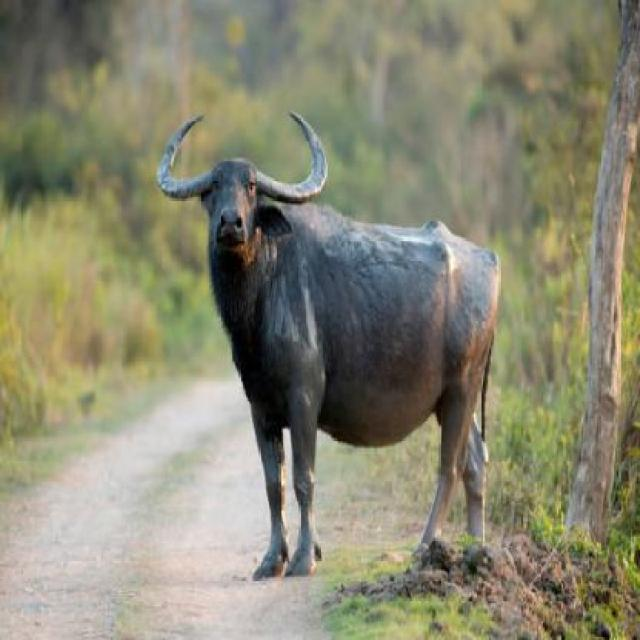buffalo: (163, 110, 508, 584)
